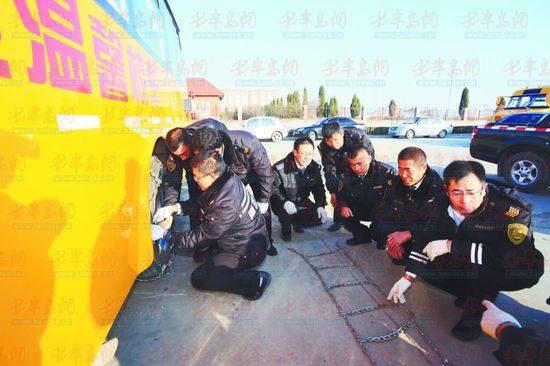fall: (472, 276, 550, 366)
